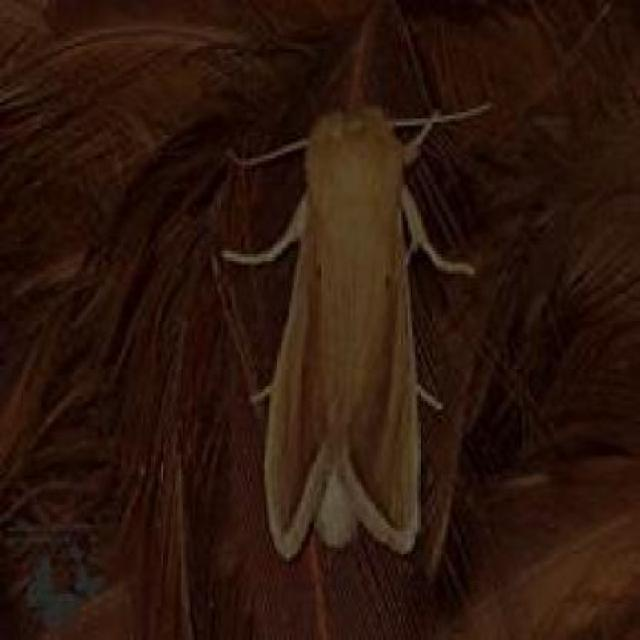stem-borer: (256, 97, 427, 569)
